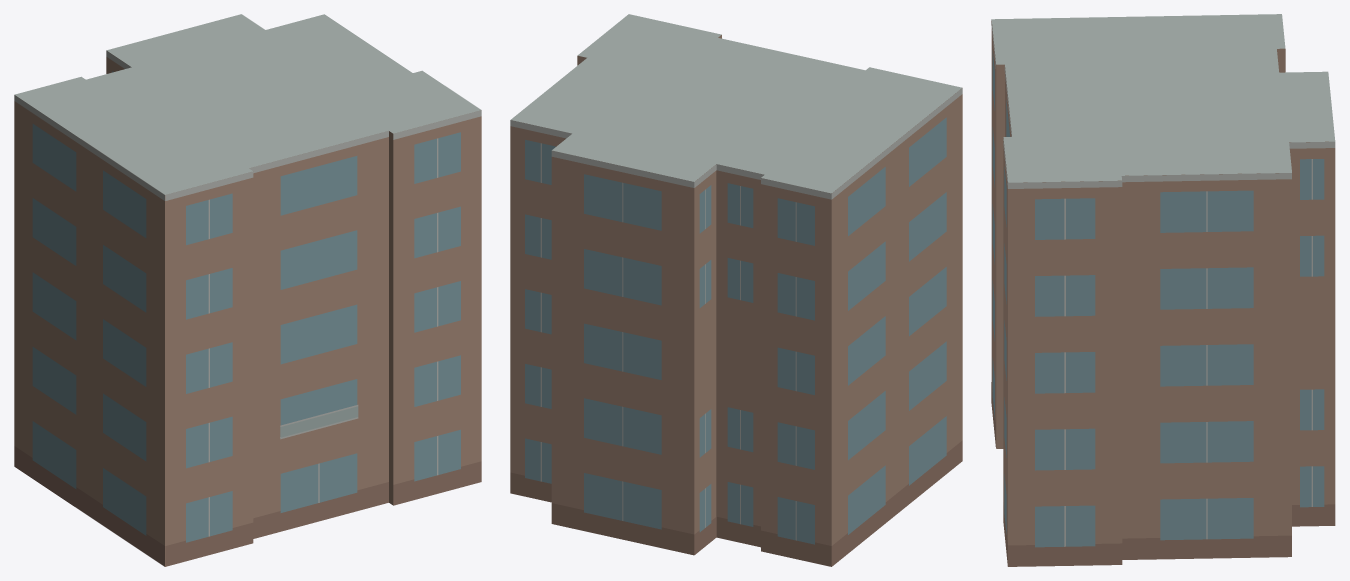
The model's file is survey-upis-32625599.glb.
The picture shows the model from 3 angles, left to right: view 1: azimuth 30°, elevation 25°; view 2: azimuth 150°, elevation 25°; view 3: azimuth 270°, elevation 25°; orthographic projection. The views are drawn at different scales.
Parts seen in each view (by area): view 1: survey-upis-32625599.tmp; view 2: survey-upis-32625599.tmp; view 3: survey-upis-32625599.tmp.
Boxes of the visible parts, <box> form: survey-upis-32625599.tmp: <box>14,14,481,566</box>; survey-upis-32625599.tmp: <box>510,14,962,566</box>; survey-upis-32625599.tmp: <box>991,14,1335,566</box>.
Bounding box in the file's own units: 13.86 × 14.7 × 11.93.
